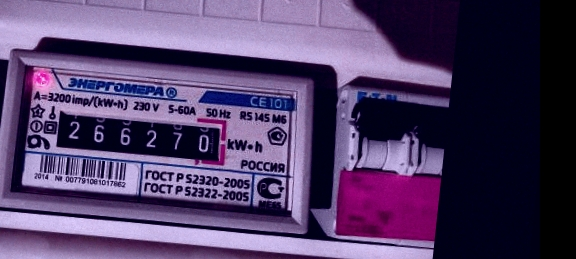0: (195, 132, 210, 154)
2: (65, 120, 82, 141), (143, 128, 159, 149)
6: (91, 122, 106, 145), (118, 126, 133, 147)
7: (169, 131, 183, 151)
screen: (46, 100, 234, 172)
